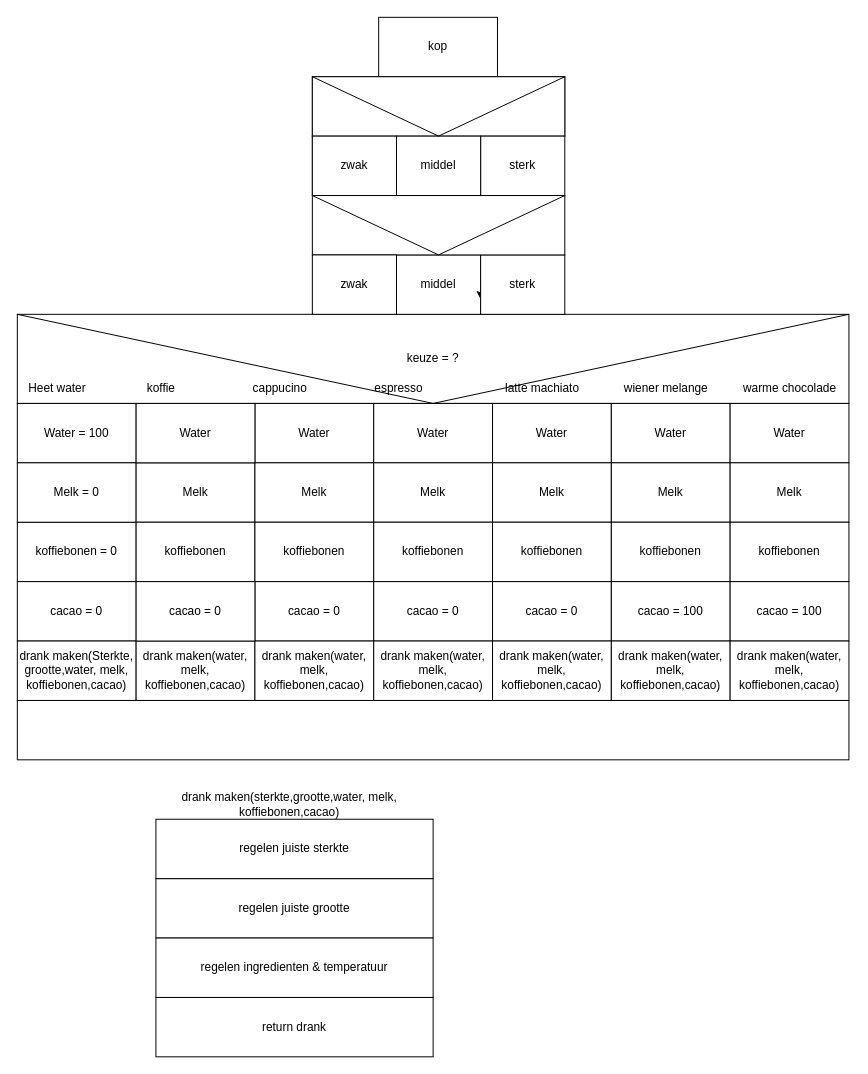
Some shapes in this 868 by 1074 pixel diagram are drawn without their labels. The shapes that lost their labels are listed below. From the top down, each one's centre as x and y in pixels, then its label:
At pixel 438 106: "sterkte = ?".
At pixel 438 225: "Grootte = ?".
At pixel 432 729: "Return Kop".
